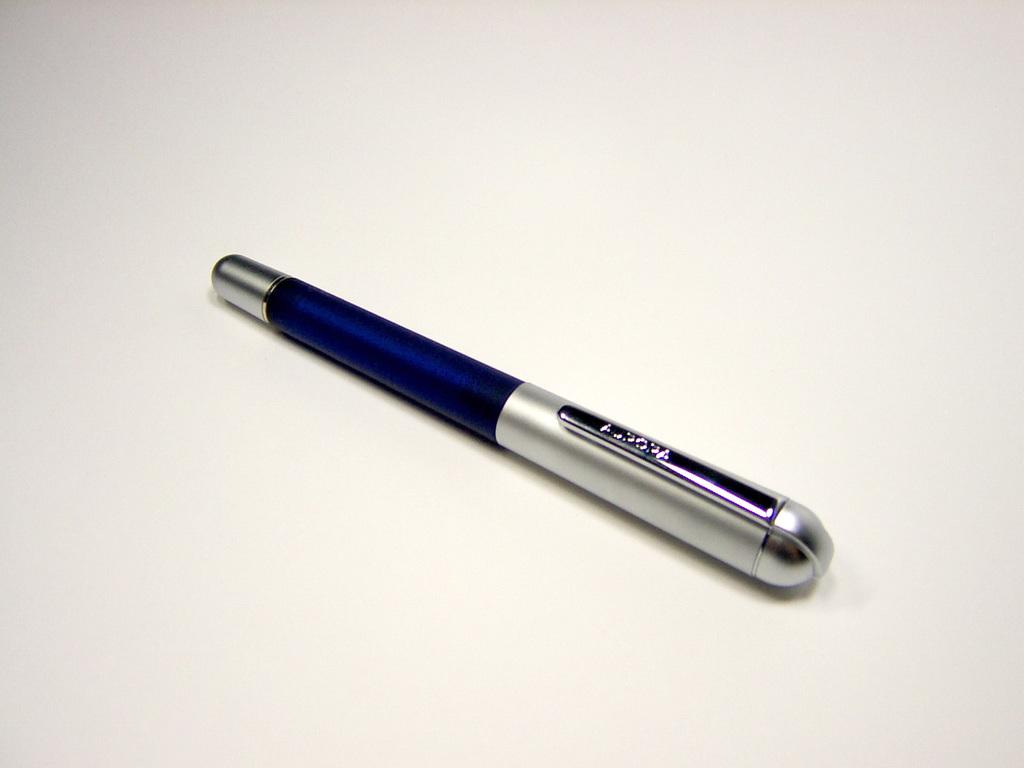pen: (205, 246, 835, 592)
